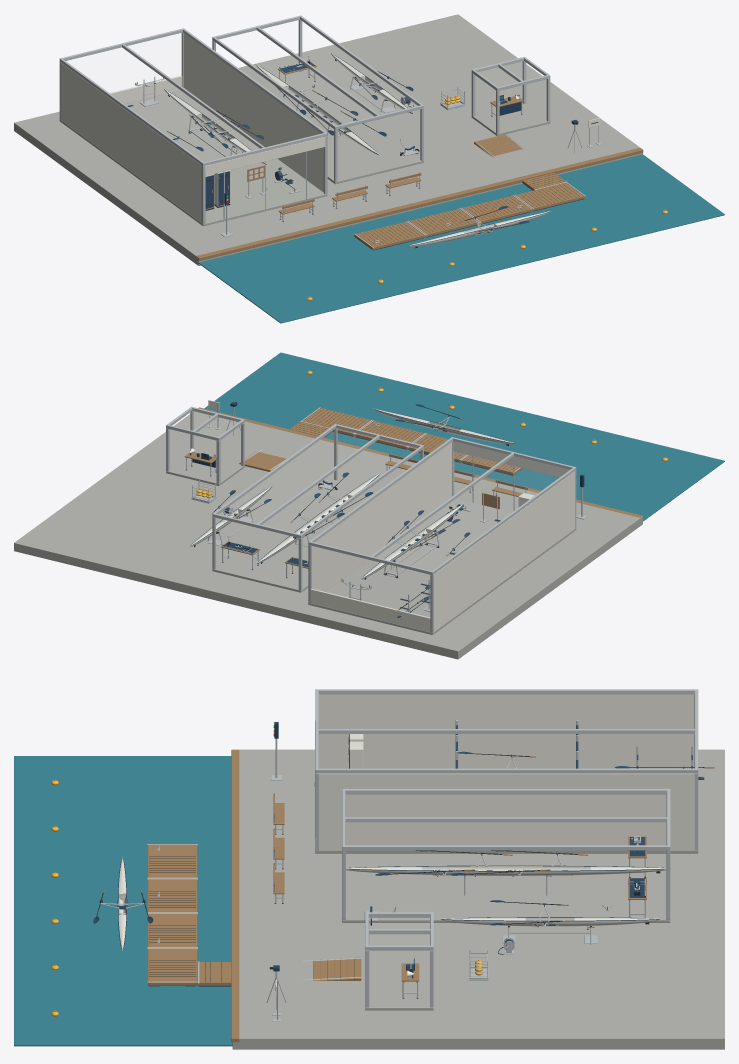
Rendered from rowing-boathouse-and-regatta-course-club-c5c22b00-starter-scene__32175.glb.
3 renders of one model, top to bottom at view 1: azimuth 30°, elevation 25°; view 2: azimuth 150°, elevation 25°; view 3: azimuth 270°, elevation 25°, orthographic. The views are drawn at different scales.
Parts seen in each view (by area): view 1: 000-regatta-riverbank-base/0, 000-regatta-riverbank-base/1, 001-roofed-rowing-boathouse/3, 001-roofed-rowing-boathouse/0, 002-covered-rigging-apron/0, 001-roofed-rowing-boathouse/1, 002-covered-rigging-apron/1, 000-regatta-riverbank-base/2, 038-officials-canopy/1, 060-launch-pontoon-corner/0, 038-officials-canopy/0, 057-launch-pontoon-straight/0 (+7 smaller); view 2: 000-regatta-riverbank-base/0, 000-regatta-riverbank-base/1, 001-roofed-rowing-boathouse/3, 001-roofed-rowing-boathouse/0, 002-covered-rigging-apron/0, 001-roofed-rowing-boathouse/1, 002-covered-rigging-apron/1, 038-officials-canopy/1, 060-launch-pontoon-corner/0, 038-officials-canopy/0, 059-launch-pontoon-straight/0, 000-regatta-riverbank-base/2 (+7 smaller); view 3: 000-regatta-riverbank-base/0, 000-regatta-riverbank-base/1, 001-roofed-rowing-boathouse/3, 002-covered-rigging-apron/0, 001-roofed-rowing-boathouse/1, 002-covered-rigging-apron/1, 060-launch-pontoon-corner/0, 000-regatta-riverbank-base/2, 008-coxless-four-shell/0, 038-officials-canopy/0, 038-officials-canopy/1, 057-launch-pontoon-straight/0 (+8 smaller).
Boxes of the visible parts, x1,y1,x2,y2 form: 000-regatta-riverbank-base/0: [14, 14, 642, 265]; 000-regatta-riverbank-base/1: [198, 154, 724, 323]; 001-roofed-rowing-boathouse/3: [61, 33, 325, 222]; 001-roofed-rowing-boathouse/0: [59, 90, 327, 226]; 002-covered-rigging-apron/0: [257, 71, 423, 184]; 001-roofed-rowing-boathouse/1: [59, 28, 327, 223]; 002-covered-rigging-apron/1: [212, 15, 423, 181]; 000-regatta-riverbank-base/2: [196, 147, 643, 260]; 038-officials-canopy/1: [471, 57, 550, 133]; 060-launch-pontoon-corner/0: [514, 173, 585, 210]; 038-officials-canopy/0: [471, 103, 550, 136]; 057-launch-pontoon-straight/0: [354, 221, 425, 249]; 000-regatta-riverbank-base/0: [14, 411, 642, 659]; 000-regatta-riverbank-base/1: [204, 352, 724, 521]; 001-roofed-rowing-boathouse/3: [310, 441, 574, 631]; 001-roofed-rowing-boathouse/0: [308, 498, 576, 634]; 002-covered-rigging-apron/0: [212, 479, 379, 592]; 001-roofed-rowing-boathouse/1: [308, 437, 576, 632]; 002-covered-rigging-apron/1: [212, 424, 423, 590]; 038-officials-canopy/1: [166, 406, 244, 483]; 060-launch-pontoon-corner/0: [290, 408, 372, 437]; 038-officials-canopy/0: [166, 457, 244, 485]; 059-launch-pontoon-straight/0: [354, 421, 425, 449]; 000-regatta-riverbank-base/2: [198, 407, 643, 518]; 000-regatta-riverbank-base/0: [232, 749, 724, 1049]; 000-regatta-riverbank-base/1: [14, 756, 232, 1046]; 001-roofed-rowing-boathouse/3: [319, 694, 697, 850]; 002-covered-rigging-apron/0: [342, 862, 670, 922]; 001-roofed-rowing-boathouse/1: [314, 689, 698, 850]; 002-covered-rigging-apron/1: [342, 789, 670, 919]; 060-launch-pontoon-corner/0: [148, 948, 231, 985]; 000-regatta-riverbank-base/2: [231, 749, 239, 1042]; 008-coxless-four-shell/0: [346, 866, 666, 875]; 038-officials-canopy/0: [365, 973, 433, 1010]; 038-officials-canopy/1: [365, 912, 433, 1007]; 057-launch-pontoon-straight/0: [148, 844, 197, 878].
Bounding box in the file's own units: 25 × 3.86 × 26.
